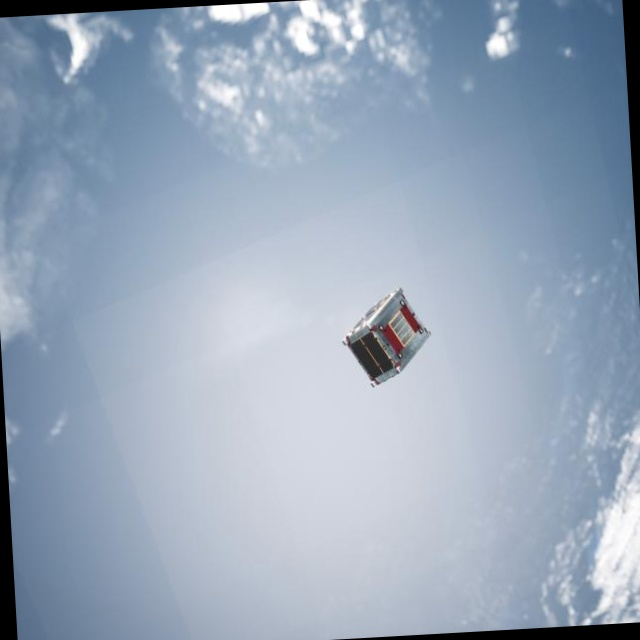medium_debris: (340, 278, 436, 391)
